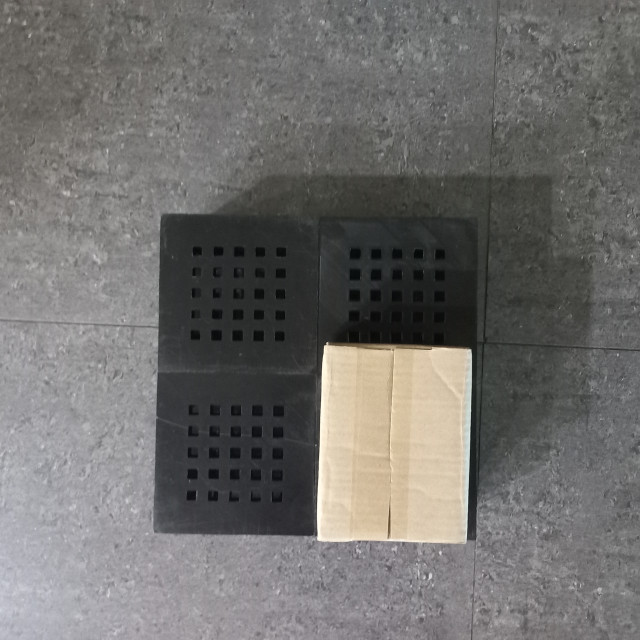box: (168, 94, 325, 299)
pallet: (158, 96, 492, 435)
